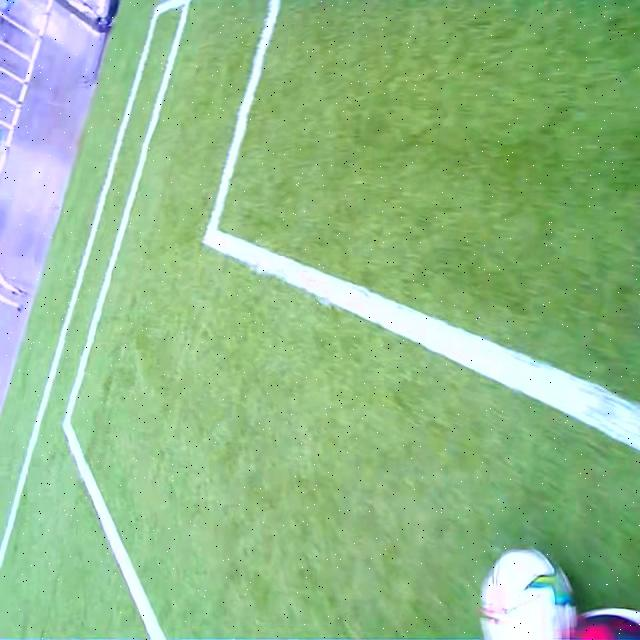ball: (480, 546, 579, 640)
